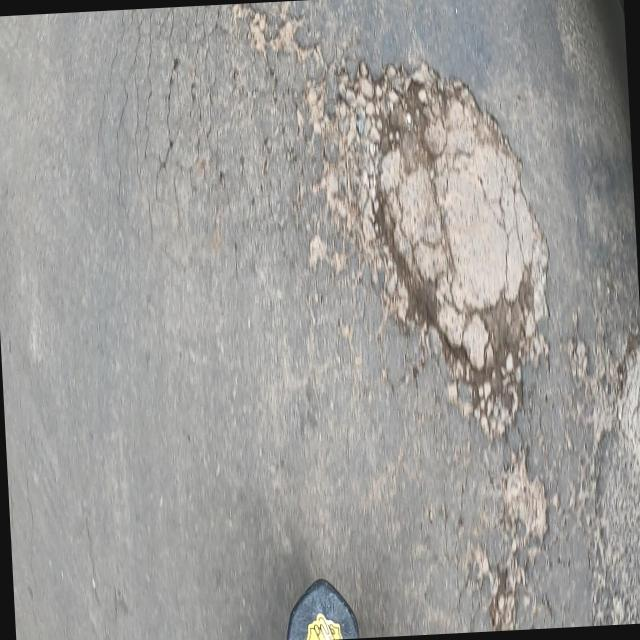Lubang: (367, 63, 548, 435)
